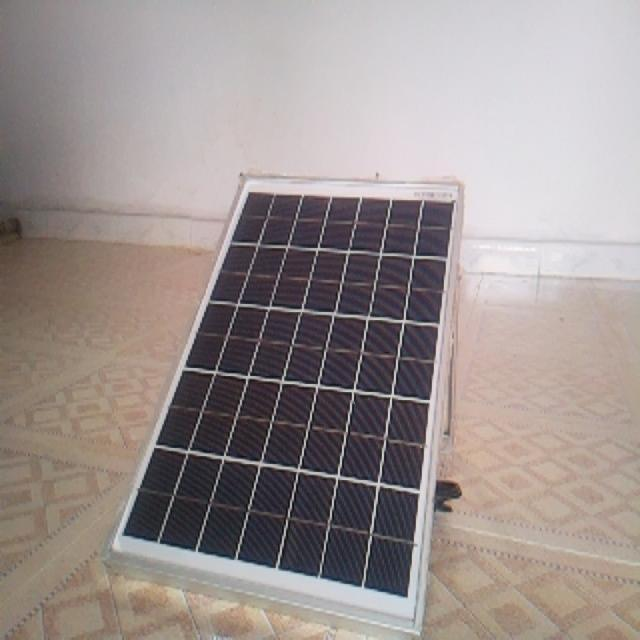Normal Solar Panel: (114, 175, 463, 632)
